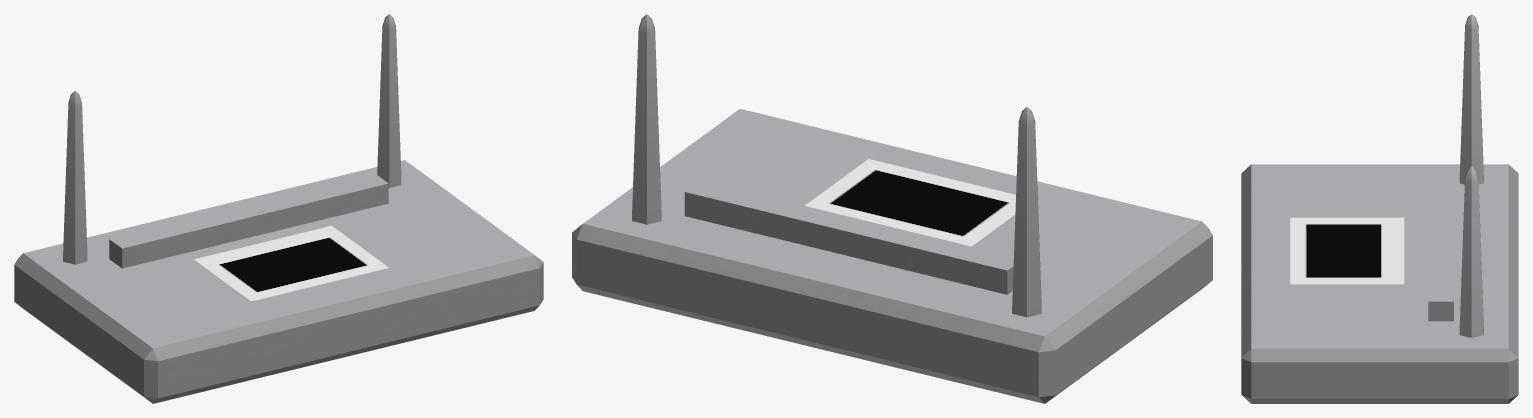
Rendered from SM_Internet.fbx.
3 renders of one model, left to right at view 1: azimuth 30°, elevation 25°; view 2: azimuth 150°, elevation 25°; view 3: azimuth 270°, elevation 25°, orthographic. The views are drawn at different scales.
Parts seen in each view (by area): view 1: SM_Internet; view 2: SM_Internet; view 3: SM_Internet.
Part boxes in pixels (x1,y1,x2,y2): SM_Internet: (14,14,543,403); SM_Internet: (572,14,1212,403); SM_Internet: (1241,14,1518,403).
Bounding box in the file's own units: 22.51 × 12.05 × 13.67.
